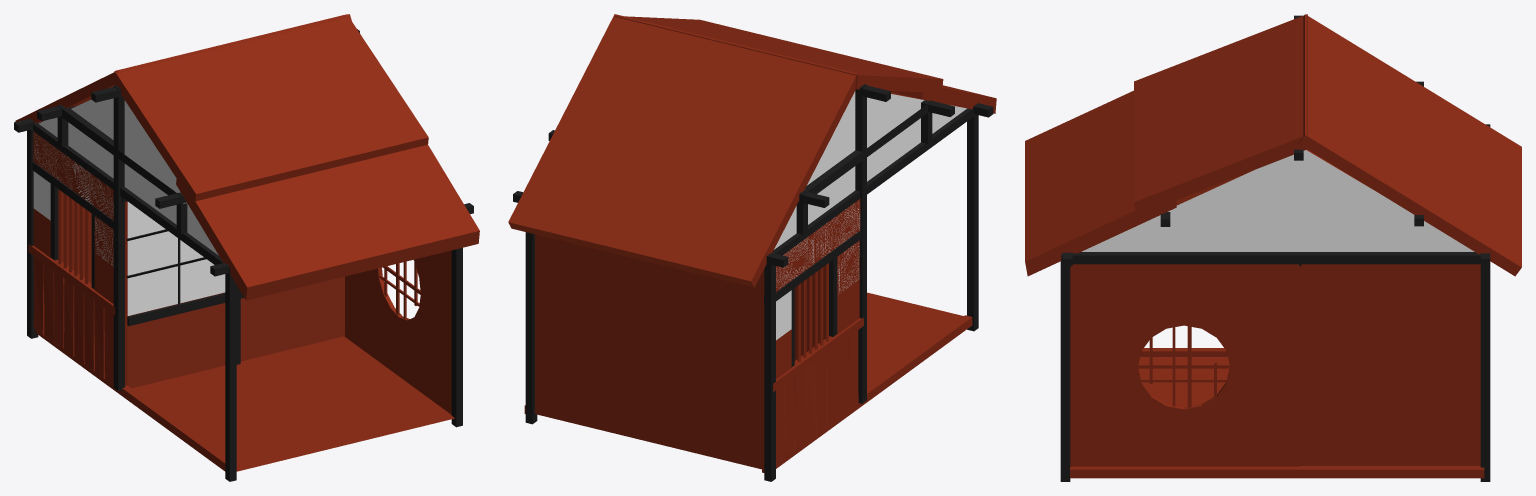
Rendered from Hoz_01.FBX.
3 renders of one model, left to right at view 1: azimuth 30°, elevation 25°; view 2: azimuth 150°, elevation 25°; view 3: azimuth 270°, elevation 25°, orthographic. The views are drawn at different scales.
Parts seen in each view (by area): view 1: Box001; view 2: Box001; view 3: Box001.
Boxes of the visible parts, box(x1,y1,x2,y2) form: Box001: box(14, 14, 479, 481); Box001: box(508, 14, 996, 481); Box001: box(1025, 14, 1521, 481).
Bounding box in the file's own units: 71.65 × 83.05 × 107.
